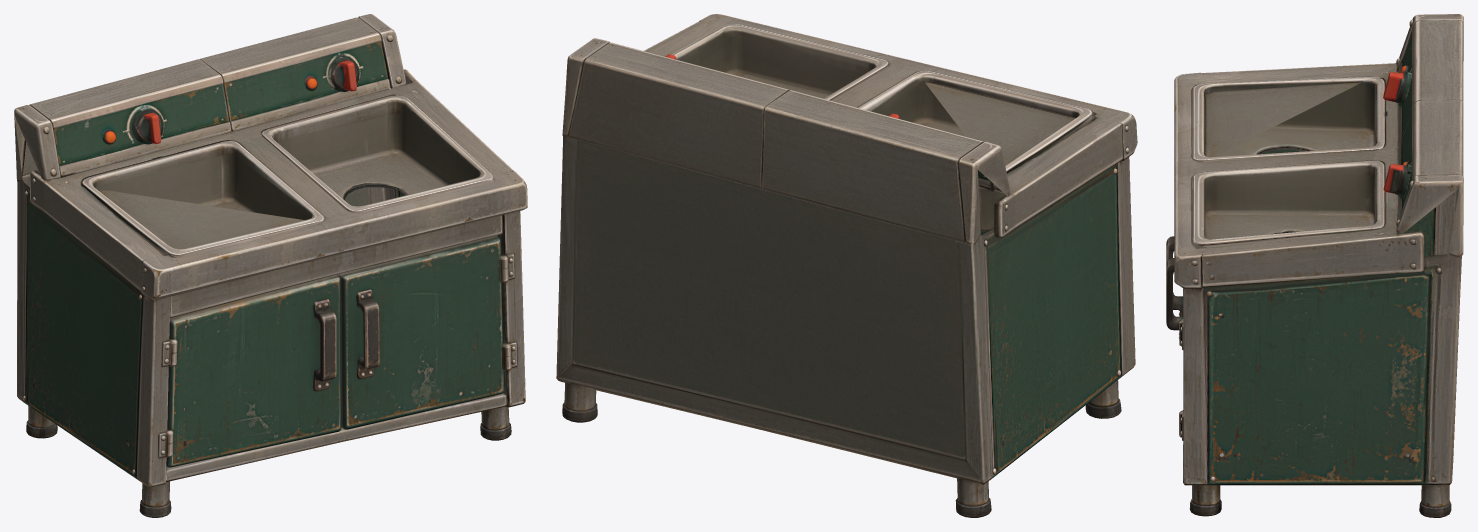
Rendered from P16_double_fryer_station_Runtime_1k.glb.
3 renders of one model, left to right at view 1: azimuth 30°, elevation 25°; view 2: azimuth 150°, elevation 25°; view 3: azimuth 270°, elevation 25°, orthographic. The views are drawn at different scales.
Visible parts, largest first — view 1: tripo_node_ba8c2a56; view 2: tripo_node_ba8c2a56; view 3: tripo_node_ba8c2a56.
Boxes of the visible parts, box(x1,y1,x2,y2) form: tripo_node_ba8c2a56: box(14, 14, 527, 517); tripo_node_ba8c2a56: box(556, 14, 1137, 517); tripo_node_ba8c2a56: box(1166, 14, 1463, 517).
Size of the model in its own units: 1.26 by 1.04 by 0.851.
1 material, 1 textured.
